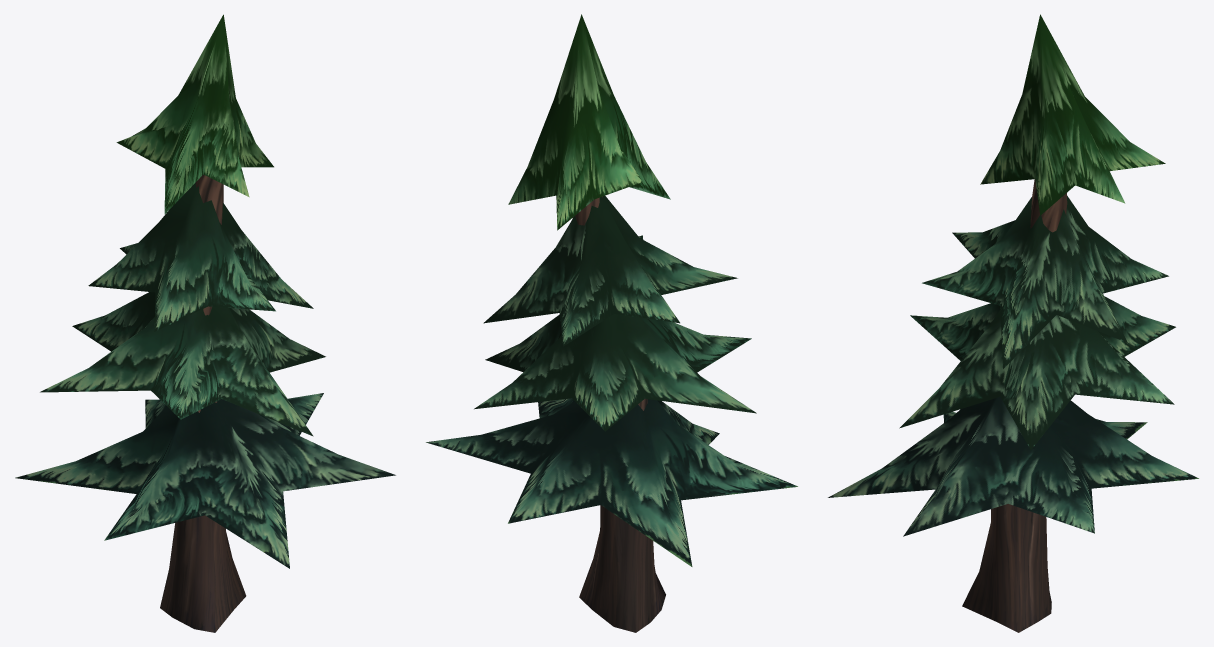
File: Nspruce_2.fbx
3 views of the same model, side by side, from view 1: azimuth 30°, elevation 25°; view 2: azimuth 150°, elevation 25°; view 3: azimuth 270°, elevation 25° (orthographic). The views are drawn at different scales.
Visible parts, largest first — view 1: Nspruce_2; view 2: Nspruce_2; view 3: Nspruce_2.
Boxes of the visible parts, x1,y1,x2,y2 form: Nspruce_2: [15, 14, 395, 632]; Nspruce_2: [426, 14, 797, 632]; Nspruce_2: [828, 14, 1198, 632].
Bounding box in the file's own units: 115 × 211 × 115.
